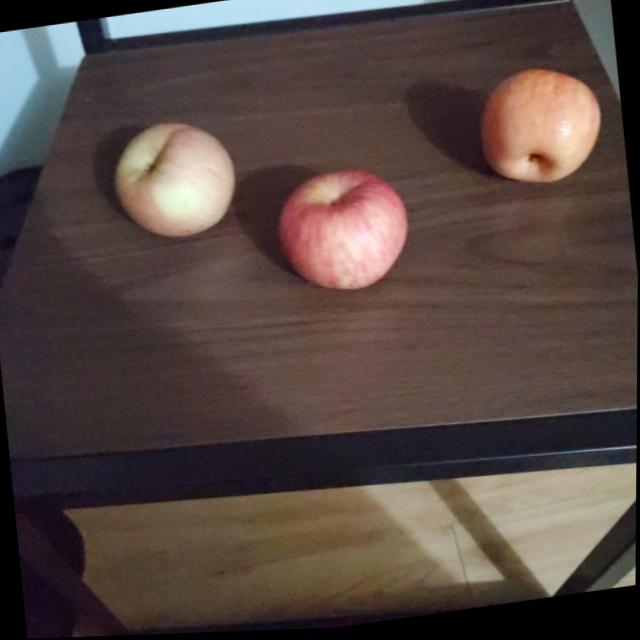apple: (274, 164, 414, 300), (478, 64, 609, 195), (112, 117, 240, 247)
